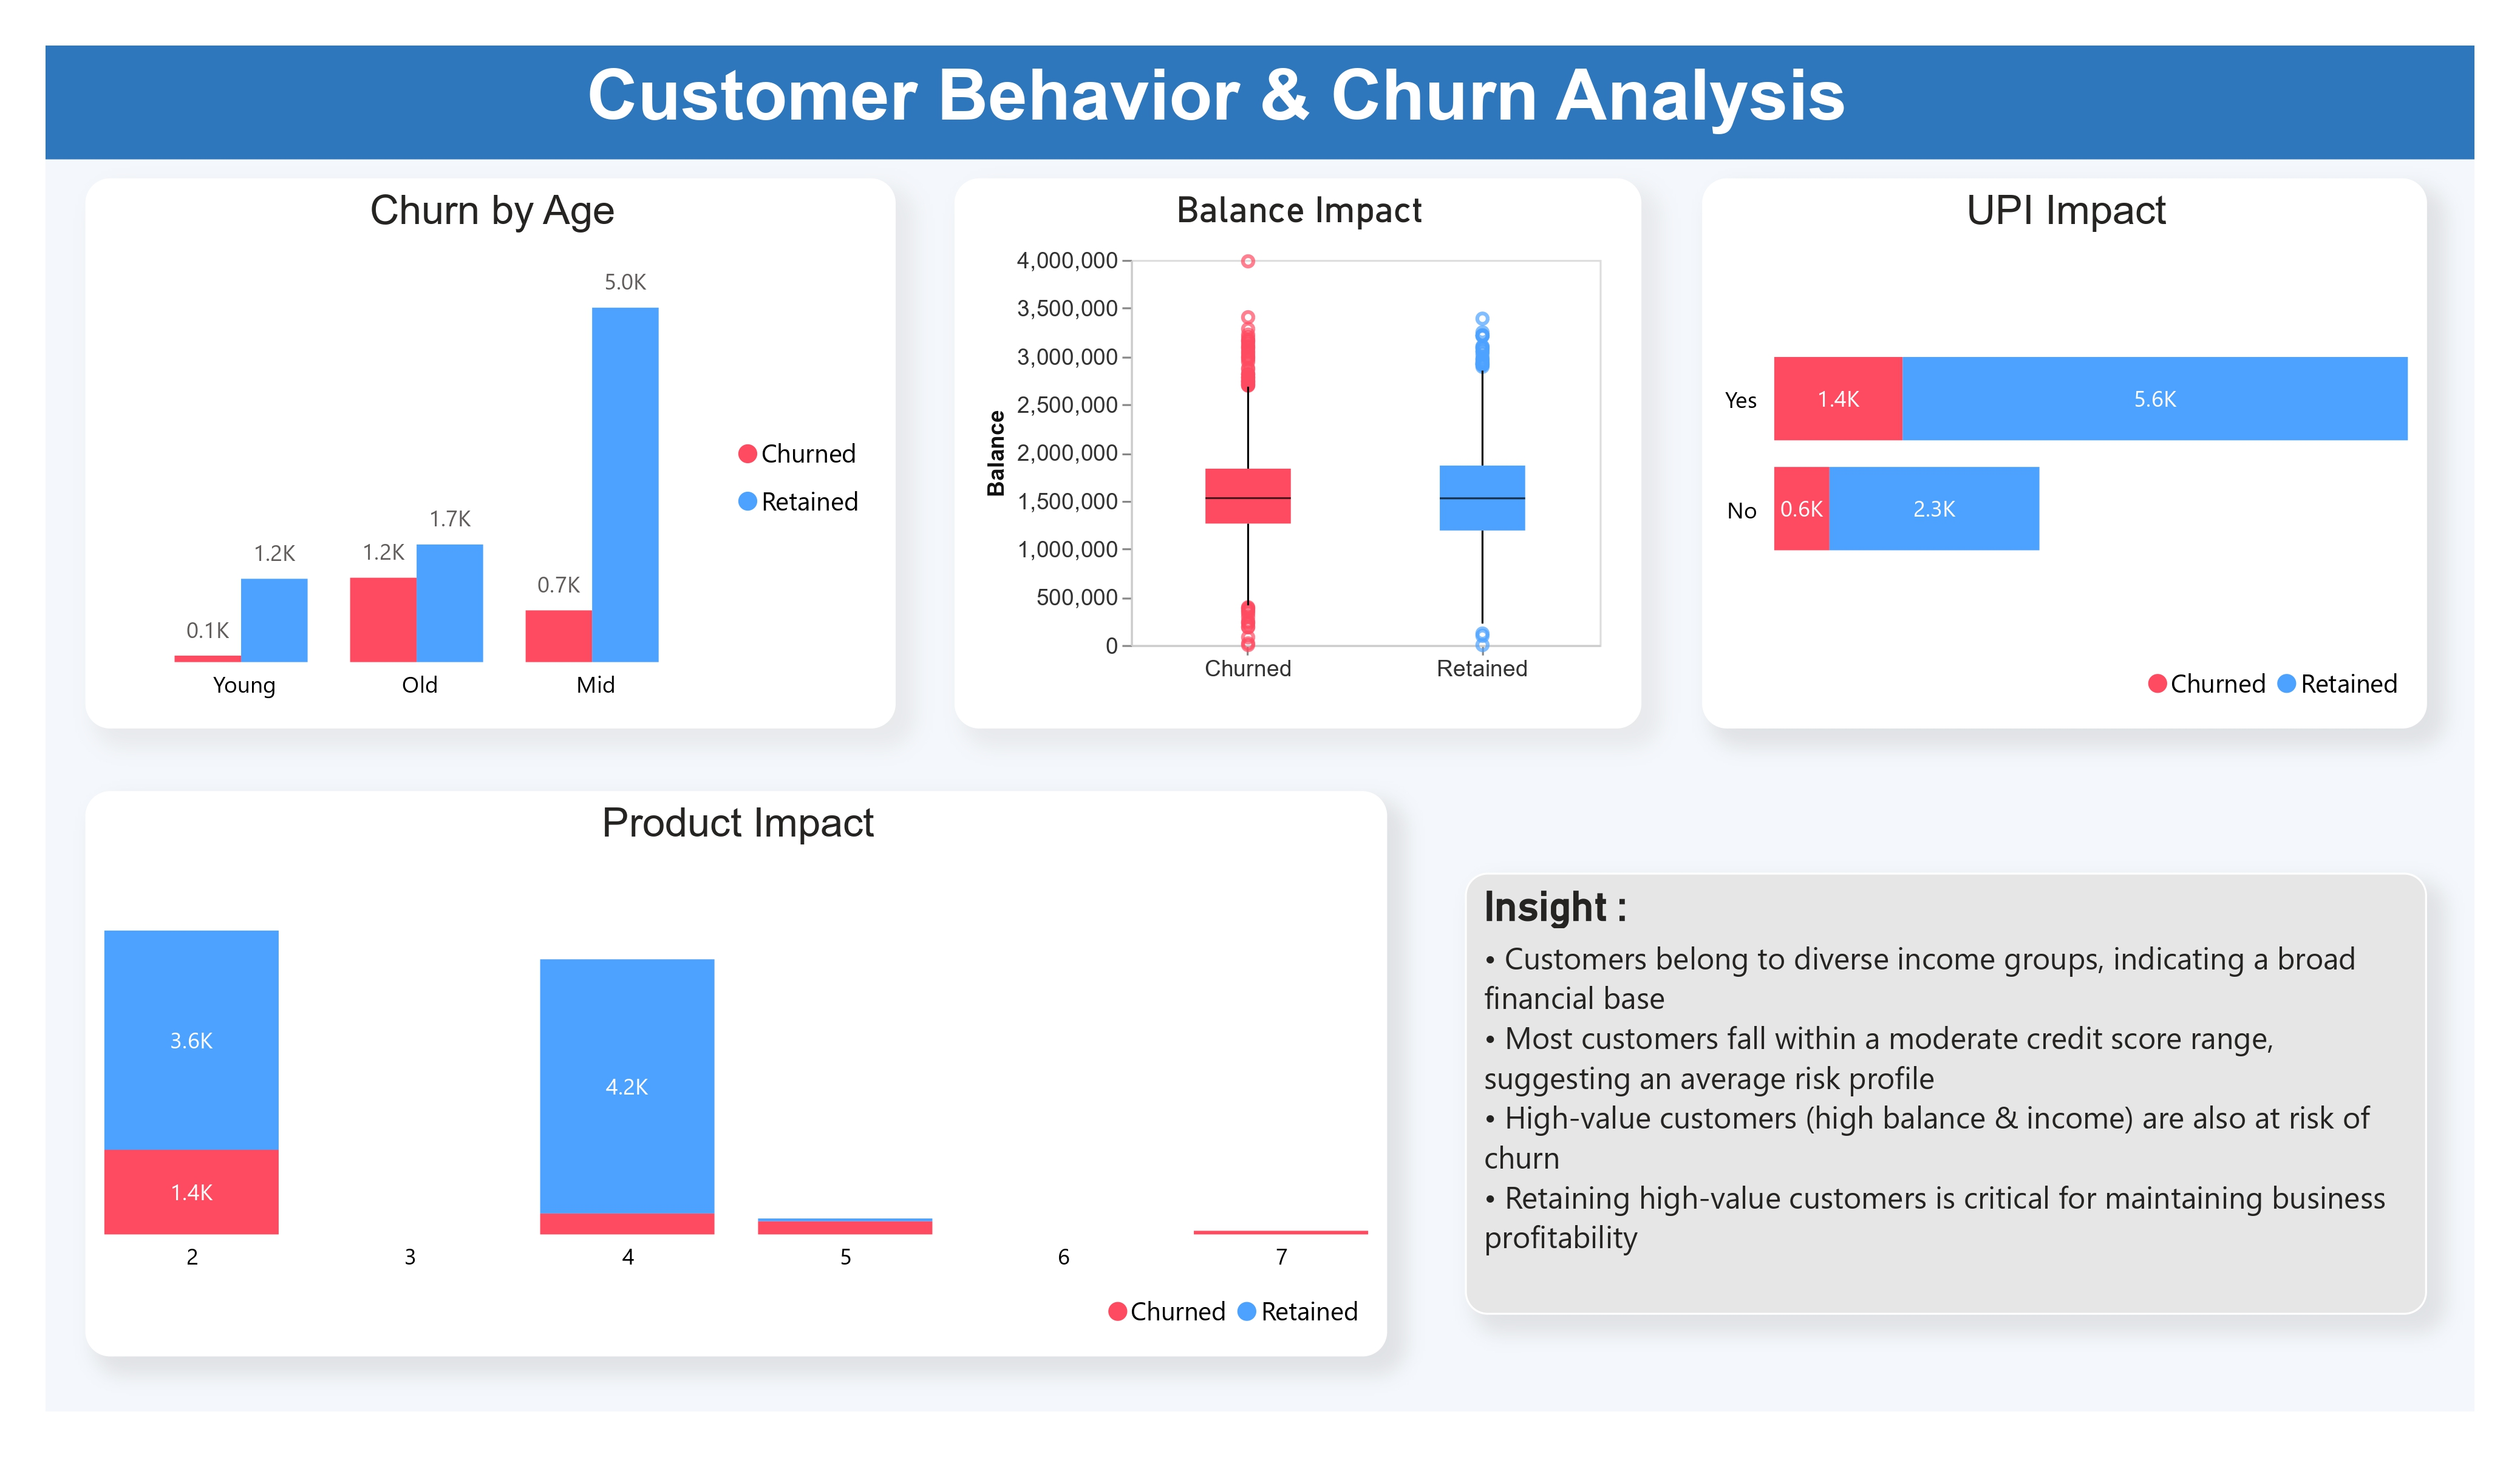

The page's visual inventory and layout, read from the dashboard file:
{"tool":"powerbi","page":{"name":"CUSTOMER BEHAVIOR ANALYSIS","canvas":[1280,720],"ordinal":1},"visuals":[{"type":"textbox","box":[0,0,1280,60.5],"z":0},{"type":"clusteredColumnChart","title":"Churn by Age","fields":{"Category":["amex_project customers.Age_Group"],"Series":["amex_project customers.Customer_Status"],"Y":["amex_project customers.Total Customers"]},"box":[20.9,69.8,426.7,290.7],"z":1000},{"type":"textbox","title":"Insight :","box":[747.7,436,507,232.6],"z":2000},{"type":"columnChart","title":"Product Impact","fields":{"Category":["amex_project customers.Num_of_products"],"Series":["amex_project customers.Customer_Status"],"Y":["amex_project customers.Total Customers"]},"box":[20.9,393,686,297.7],"z":3000},{"type":"barChart","title":"UPI Impact","fields":{"Category":["amex_project customers.UPI_Enabled"],"Y":["amex_project customers.Total Customers"],"Series":["amex_project customers.Customer_Status"]},"box":[873.3,69.8,381.4,290.7],"z":4000},{"type":"STANDALONEdeneb7E15AEF80B9E4D4F8E12924291ECE89A","title":"Balance Impact","fields":{"dataset":["amex_project customers.Current_Account_Balance","amex_project customers.Customer_Status"]},"box":[479.1,69.8,361.6,290.7],"z":5000}]}

Visuals, with their boxes on the page's 1280x720 design canvas (x1, y1, x2, y2). These are canvas units, not pixel positions in the 2520x1457 screenshot, which may show the page scaled, cropped or inside an application window:
textbox: (0, 0, 1280, 60)
"Churn by Age" clusteredColumnChart: (21, 70, 448, 360)
"Insight :" textbox: (748, 436, 1255, 669)
"Product Impact" columnChart: (21, 393, 707, 691)
"UPI Impact" barChart: (873, 70, 1255, 360)
"Balance Impact" STANDALONEdeneb7E15AEF80B9E4D4F8E12924291ECE89A: (479, 70, 841, 360)
